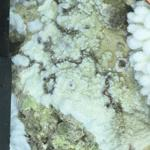alive: (11, 4, 147, 148)
